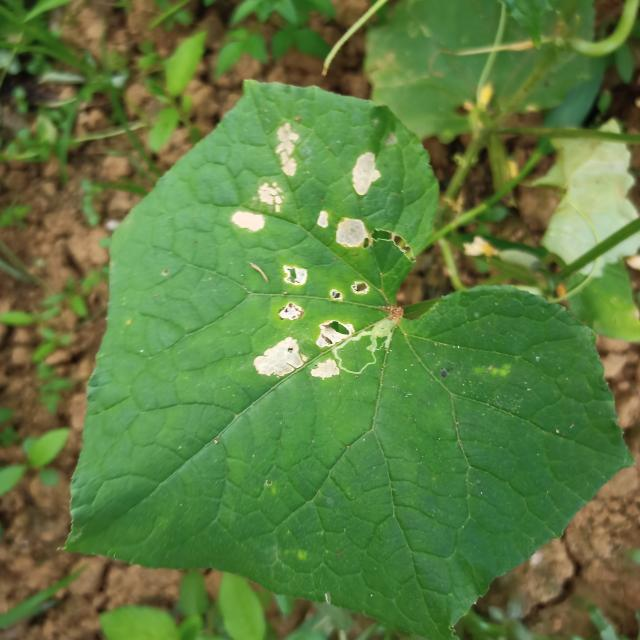disease_cucumber: (232, 124, 380, 380)
